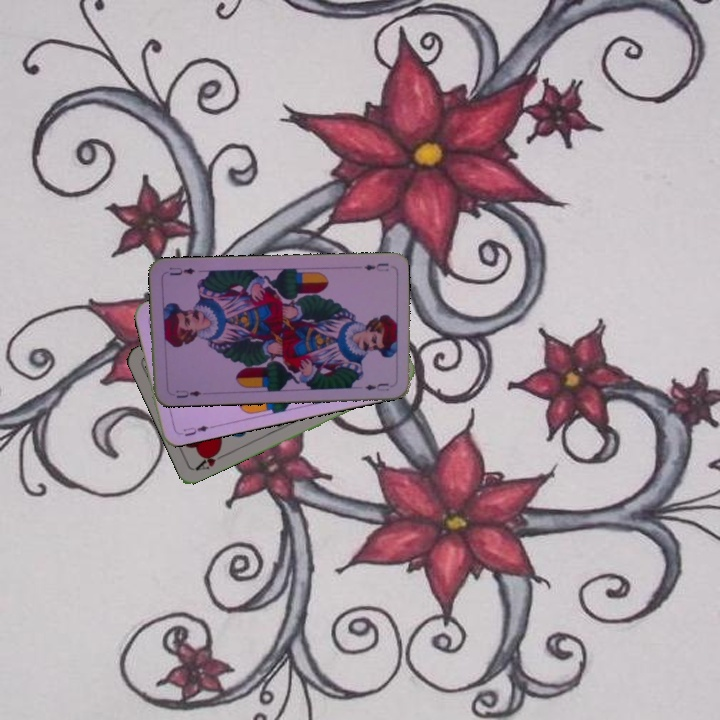EU: (179, 421, 215, 439), (172, 386, 203, 401), (360, 259, 391, 274)
HA: (192, 445, 230, 473)
